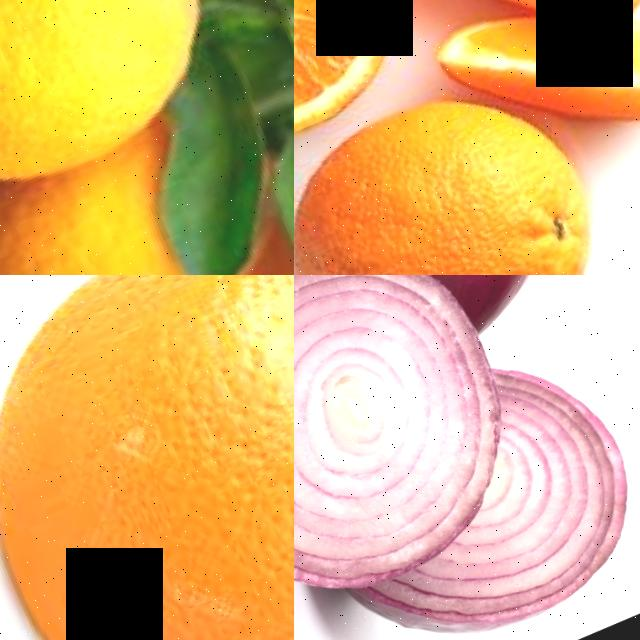onion: (294, 275, 562, 638), (338, 430, 640, 640)
orange: (0, 275, 294, 640), (294, 37, 635, 275), (0, 0, 262, 235), (0, 95, 271, 275), (294, 0, 454, 200), (520, 0, 640, 177)
